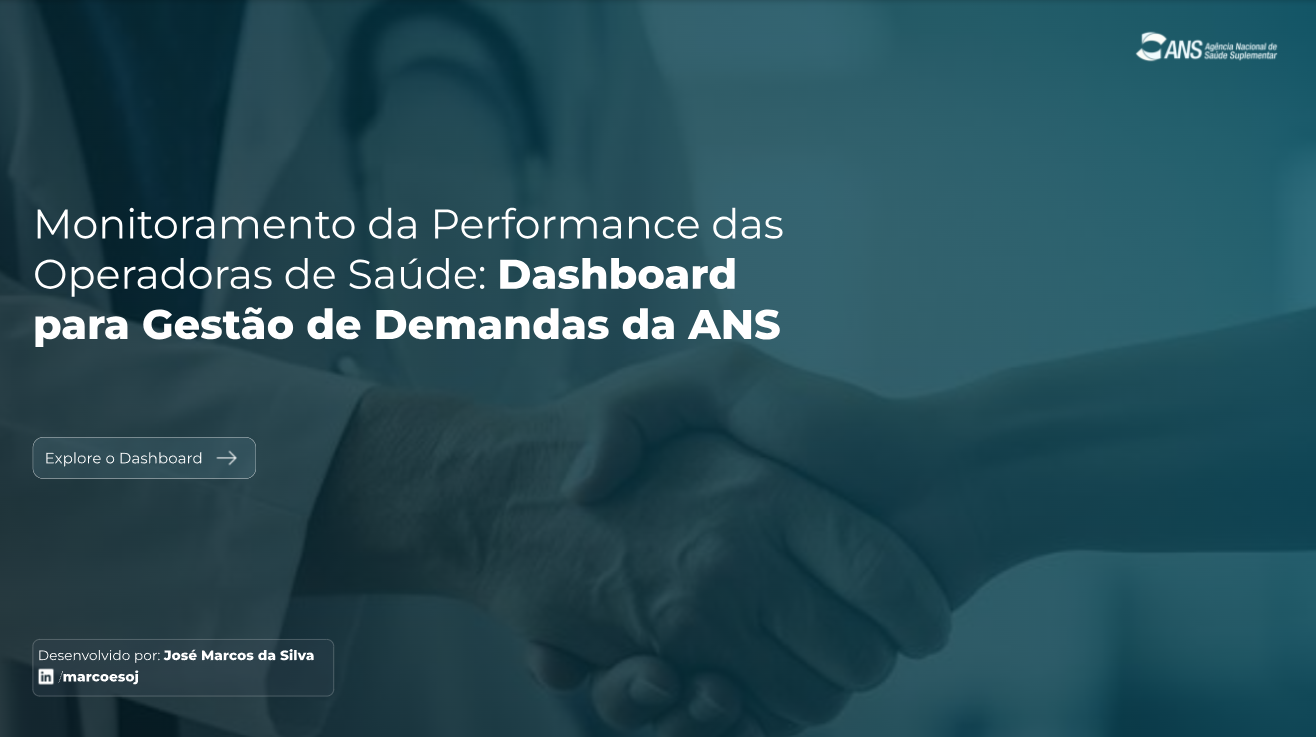

This screenshot's page, from the dashboard's own definition file:
{"tool":"powerbi","page":{"name":"Início","canvas":[1920,1080],"ordinal":0},"visuals":[{"type":"actionButton","box":[52.7,630.5,316.2,72.7],"z":0},{"type":"actionButton","box":[52.7,972.1,178.1,29.1],"z":1}]}

Visuals, with their boxes in screenshot pixels (x1, y1, x2, y2), scaled from the page's 1920x1080 canvas onto the 1316x737 screenshot:
actionButton: 36 430 253 480
actionButton: 36 663 158 683
